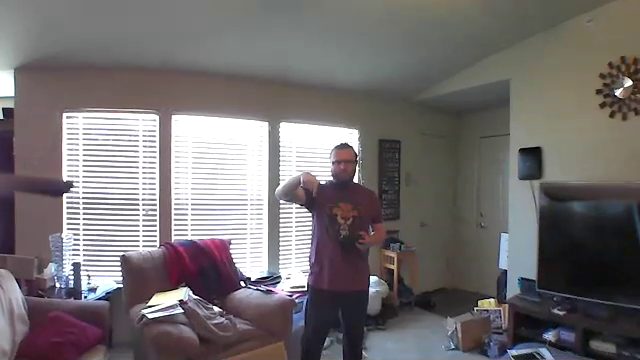down: (296, 165, 323, 204)
